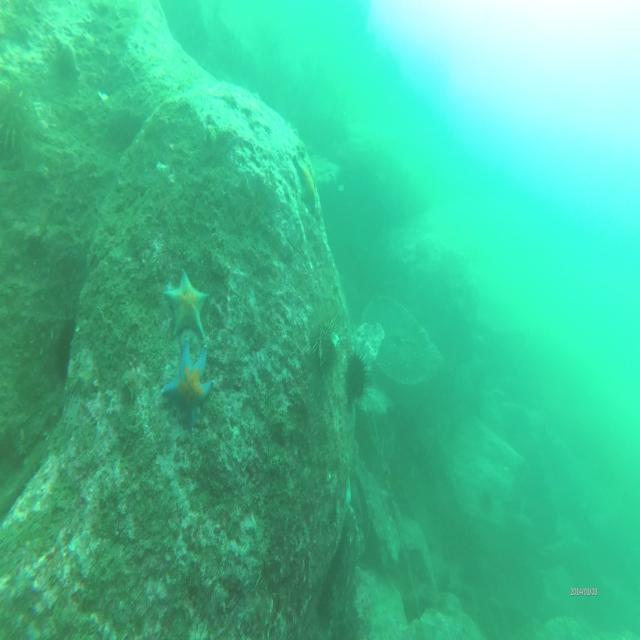echinus: (0, 82, 34, 154), (310, 306, 342, 373), (345, 343, 369, 402)
starfish: (160, 348, 210, 430), (162, 269, 206, 340), (293, 150, 319, 215), (55, 33, 81, 80)
